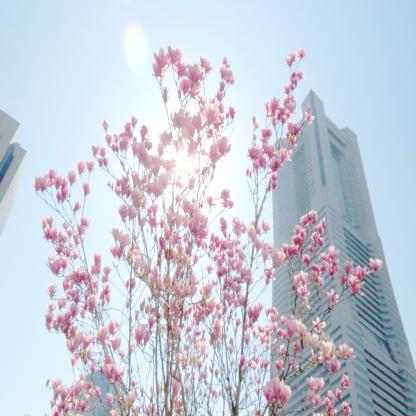Mokuren: (34, 45, 383, 416)
